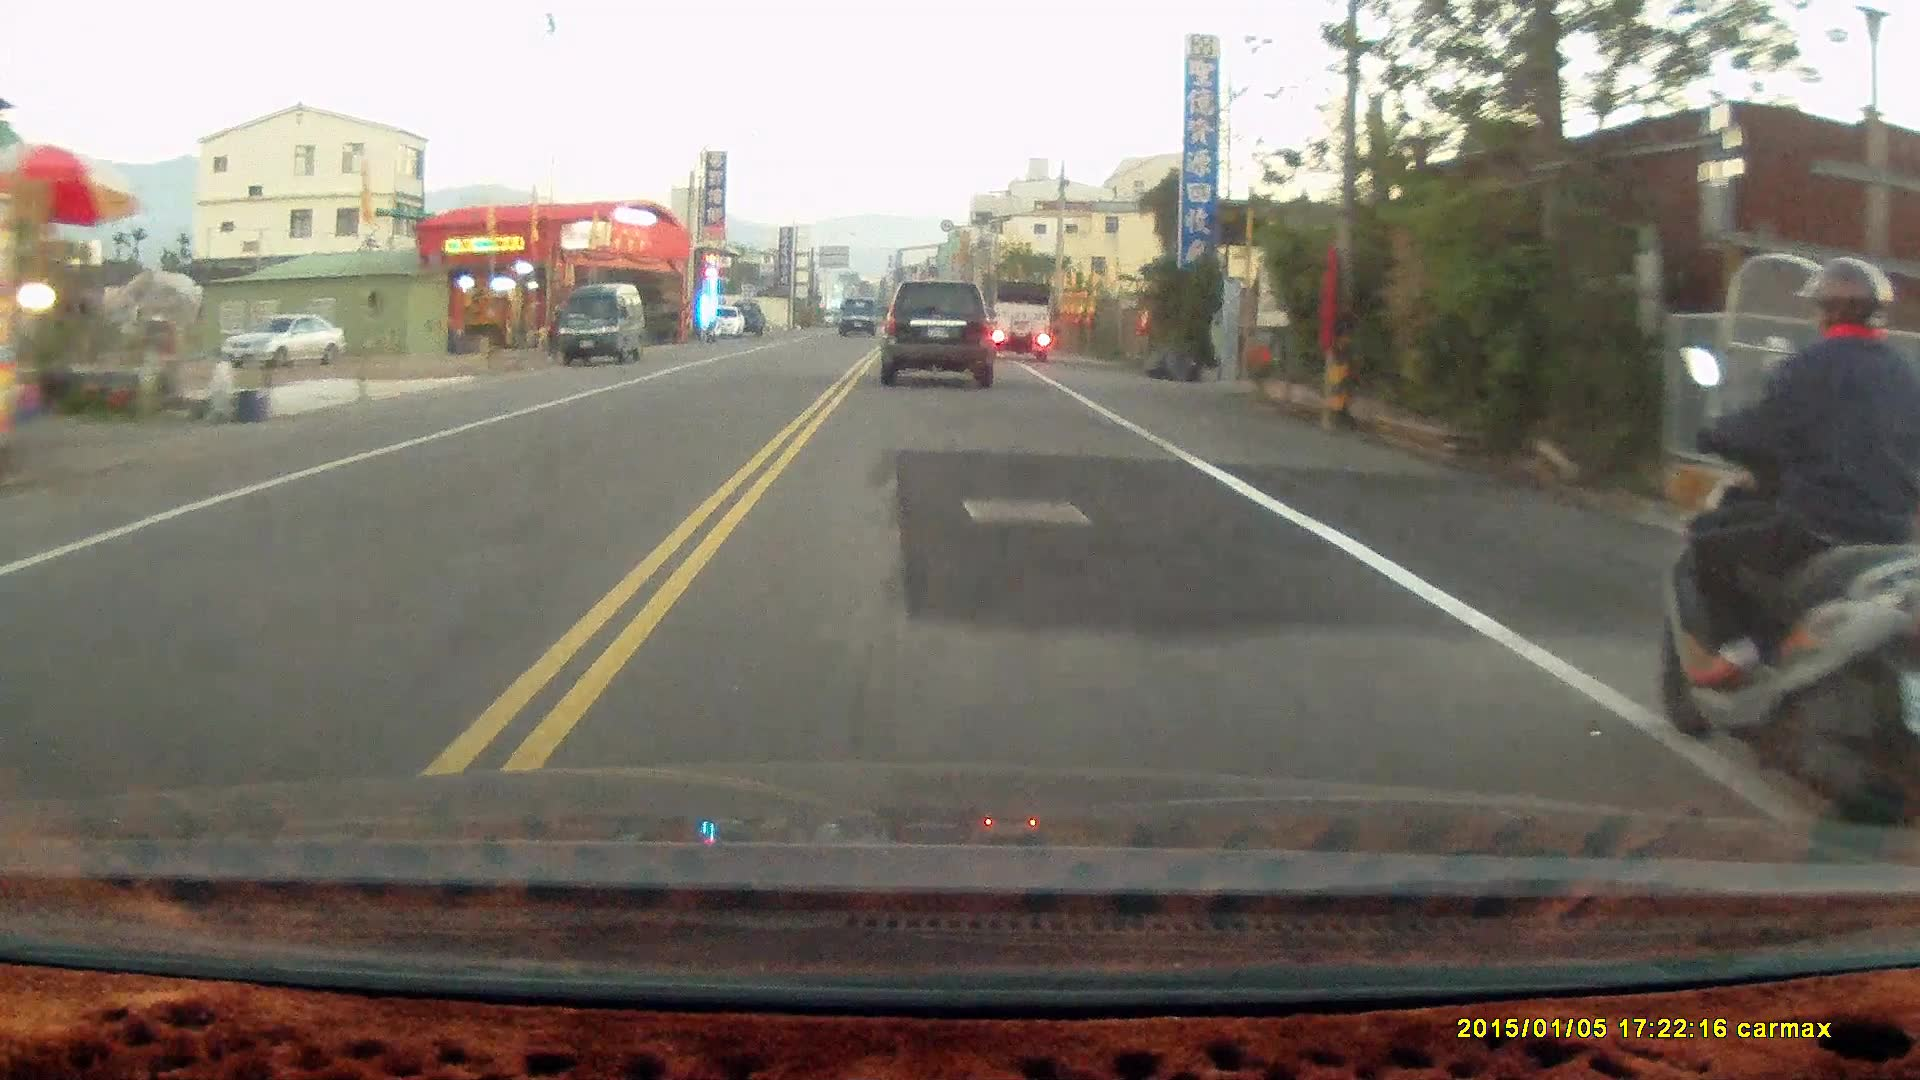rider: (1656, 250, 1919, 826)
vehicle: (879, 277, 1002, 388), (558, 283, 646, 366), (219, 318, 346, 370), (987, 275, 1056, 362)
